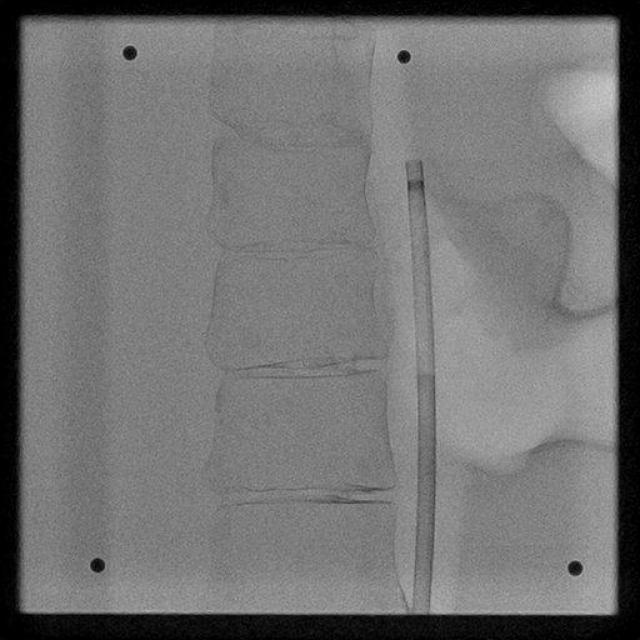bend: (416, 360, 436, 376)
entry: (412, 608, 431, 614)
marker: (406, 179, 425, 191)
tip: (405, 158, 423, 167)
